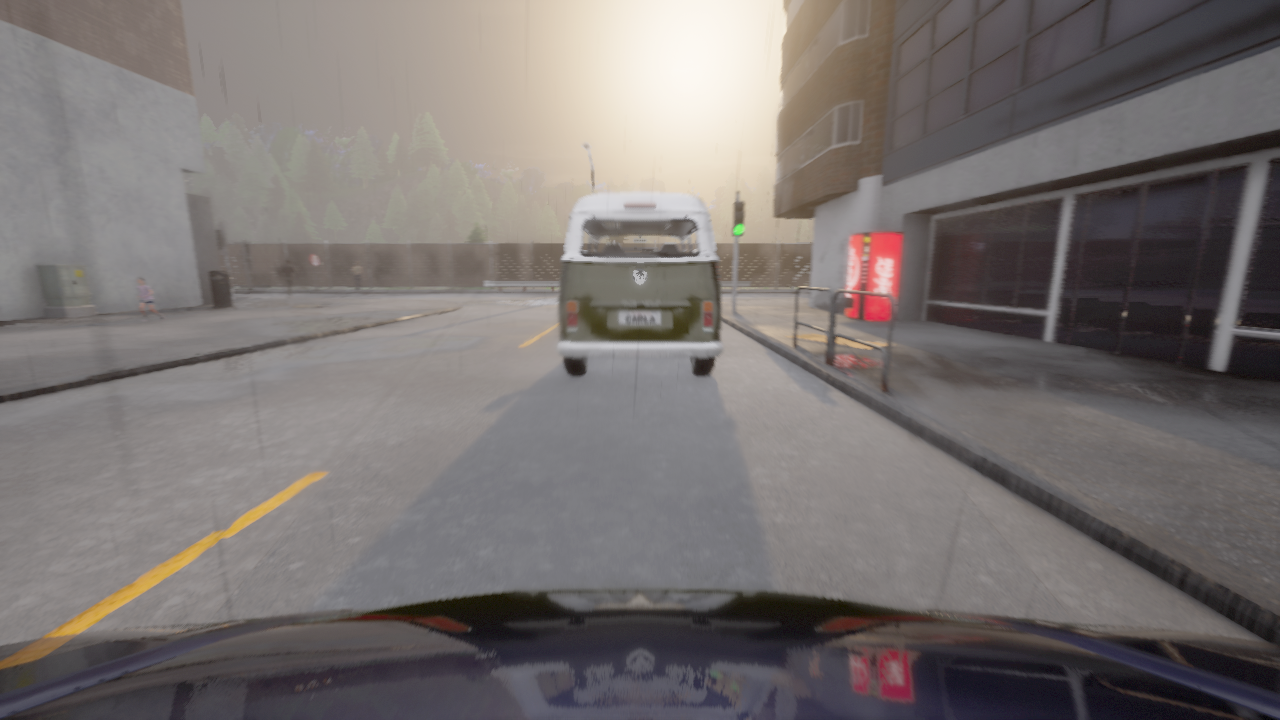cyclist: (0, 588, 1279, 719), (557, 192, 723, 376)
pedestrian: (137, 277, 164, 321), (280, 260, 298, 298), (353, 261, 362, 292)
